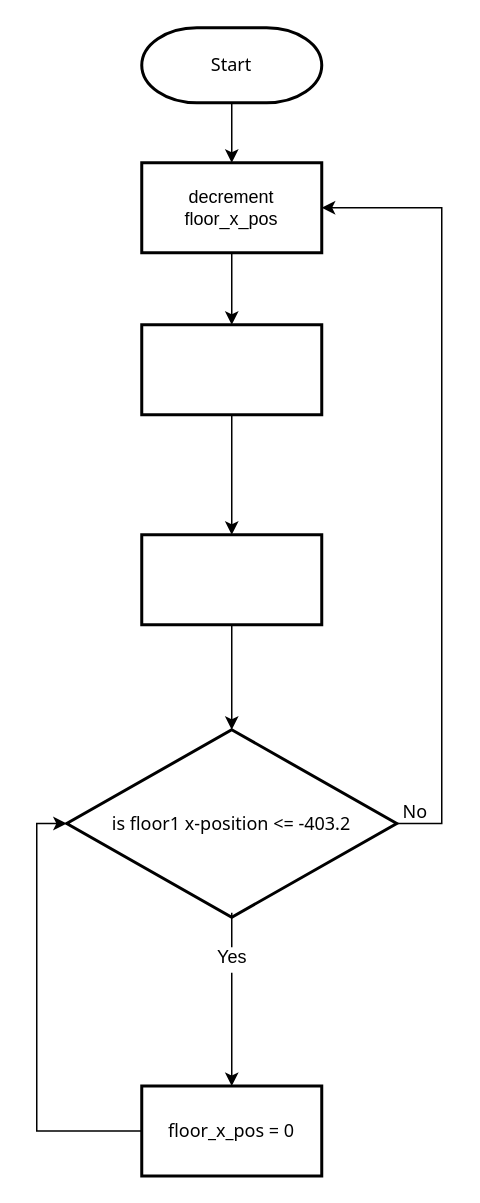
Image size: 480x1203. Some labels were removed from this diagram. The shapes that lost their labels are listed below. From the top down, each one's centre as x and y in pixels, then its label:
At (231,369): "draw floor1".
At (231,579): "draw floor2".
